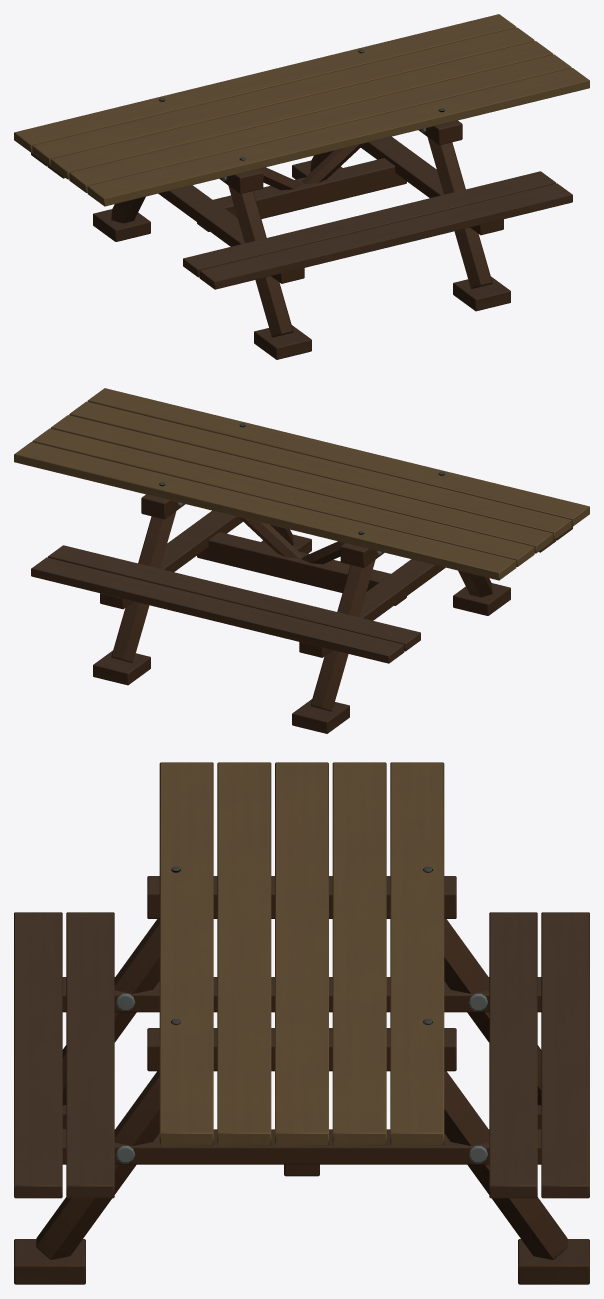
Rendered from level_camp_picnic_table_authored.glb.
3 views of the same model, one above another, from view 1: azimuth 30°, elevation 25°; view 2: azimuth 150°, elevation 25°; view 3: azimuth 270°, elevation 25° (orthographic). The views are drawn at different scales.
Visible parts, largest first — view 1: level_camp_picnic_table_authored; view 2: level_camp_picnic_table_authored; view 3: level_camp_picnic_table_authored.
Boxes of the visible parts, box(x1,y1,x2,y2) form: level_camp_picnic_table_authored: box(14, 14, 589, 359); level_camp_picnic_table_authored: box(14, 388, 589, 733); level_camp_picnic_table_authored: box(14, 762, 589, 1284).
Bounding box in the file's own units: 2.44 × 0.77 × 1.6.
Materials: 1 (1 with a texture image).
